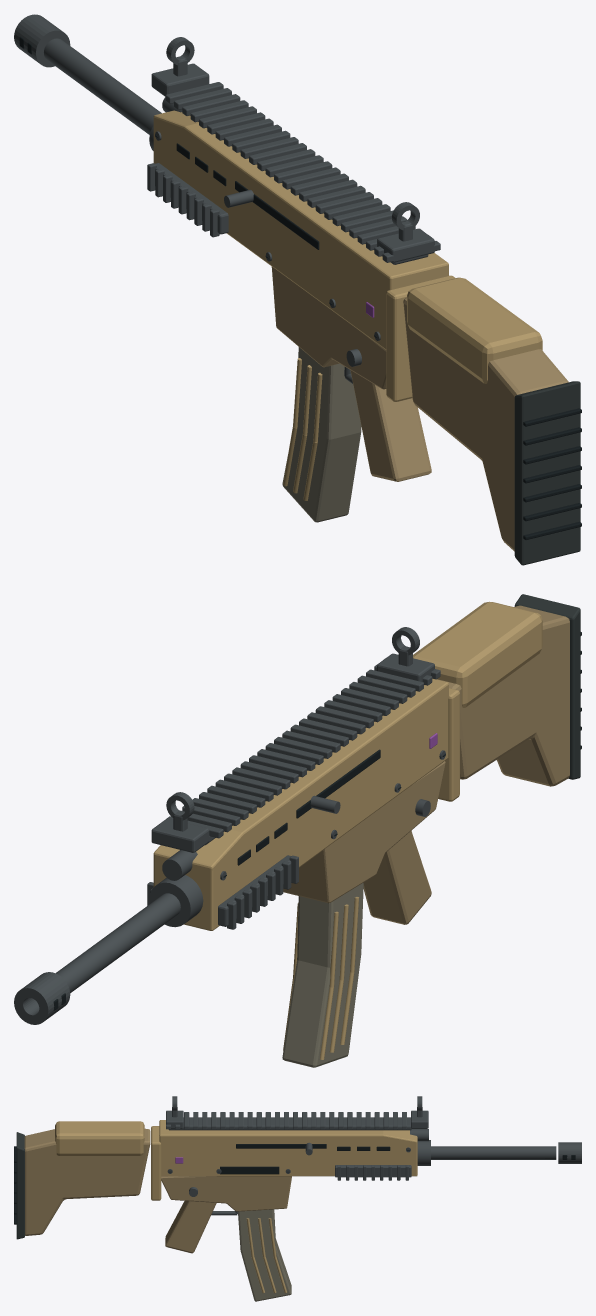
The model's file is rifle_3.glb.
3 renders of one model, top to bottom at view 1: azimuth 30°, elevation 25°; view 2: azimuth 150°, elevation 25°; view 3: azimuth 270°, elevation 25°, orthographic. The views are drawn at different scales.
Parts seen in each view (by area): view 1: Weapon_rifle_realism_v2; view 2: Weapon_rifle_realism_v2; view 3: Weapon_rifle_realism_v2.
Part boxes in pixels (left/top/right/bottom): Weapon_rifle_realism_v2: left=14, top=14, right=581, bottom=565; Weapon_rifle_realism_v2: left=14, top=594, right=581, bottom=1067; Weapon_rifle_realism_v2: left=14, top=1096, right=581, bottom=1301.
Size of the model in its own units: 0.122 by 0.3904 by 1.
